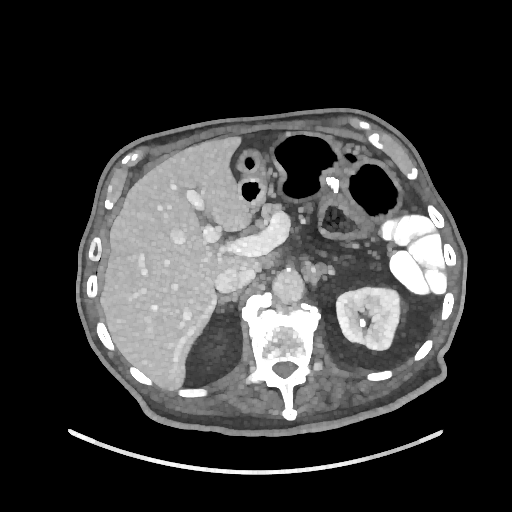Lesion: (353, 315, 370, 333)
